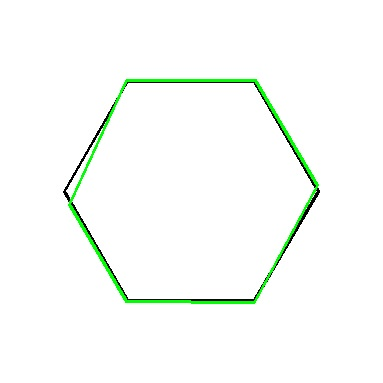line_segment: (63, 79, 320, 303)
